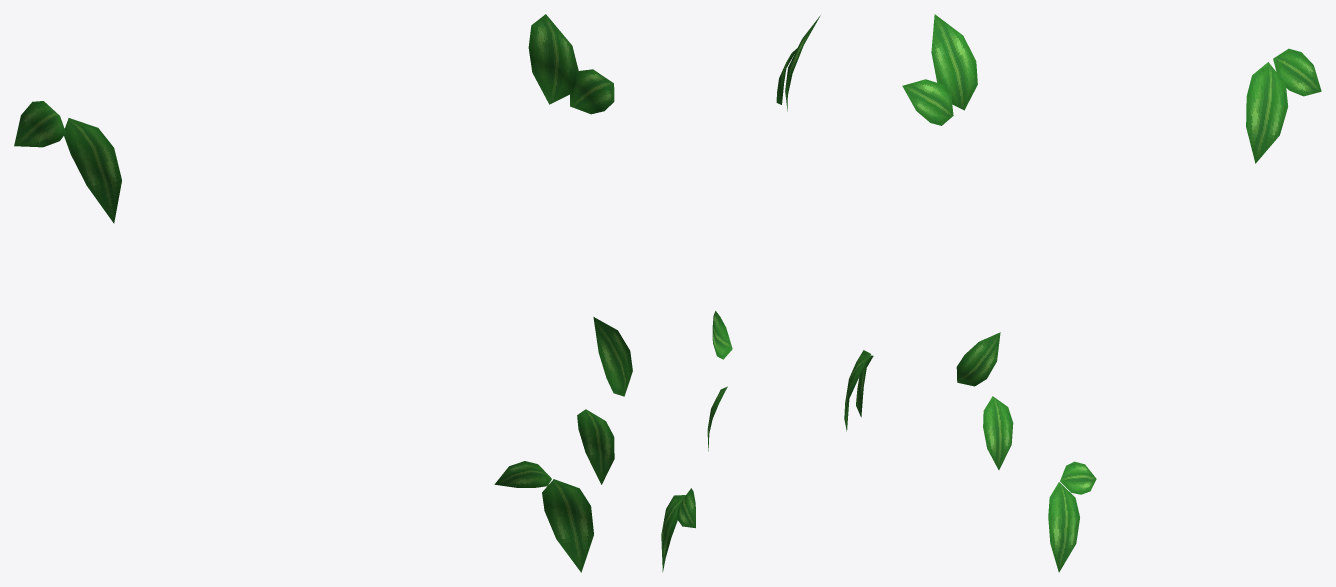
The model's file is EKH_BARRELROOM_PS_JA1_LEAVES63534.fbx.
The picture shows the model from 3 angles, left to right: view 1: azimuth 30°, elevation 25°; view 2: azimuth 150°, elevation 25°; view 3: azimuth 270°, elevation 25°; orthographic projection. The views are drawn at different scales.
Parts seen in each view (by area): view 1: EKH_BARRELROOM_PS_JA1_LEAVES63534; view 2: EKH_BARRELROOM_PS_JA1_LEAVES63534; view 3: EKH_BARRELROOM_PS_JA1_LEAVES63534.
Part boxes in pixels (x1,y1,x2,y2): EKH_BARRELROOM_PS_JA1_LEAVES63534: (14,14,632,572); EKH_BARRELROOM_PS_JA1_LEAVES63534: (661,15,873,572); EKH_BARRELROOM_PS_JA1_LEAVES63534: (902,14,1321,572).
Bounding box in the file's own units: 12453 × 18656 × 13776.
1 material, 1 textured.
